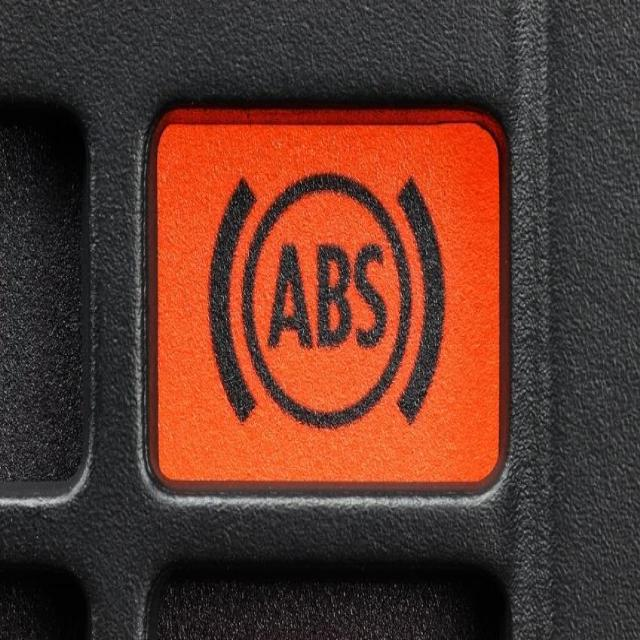kontrolka: (187, 150, 465, 449)
